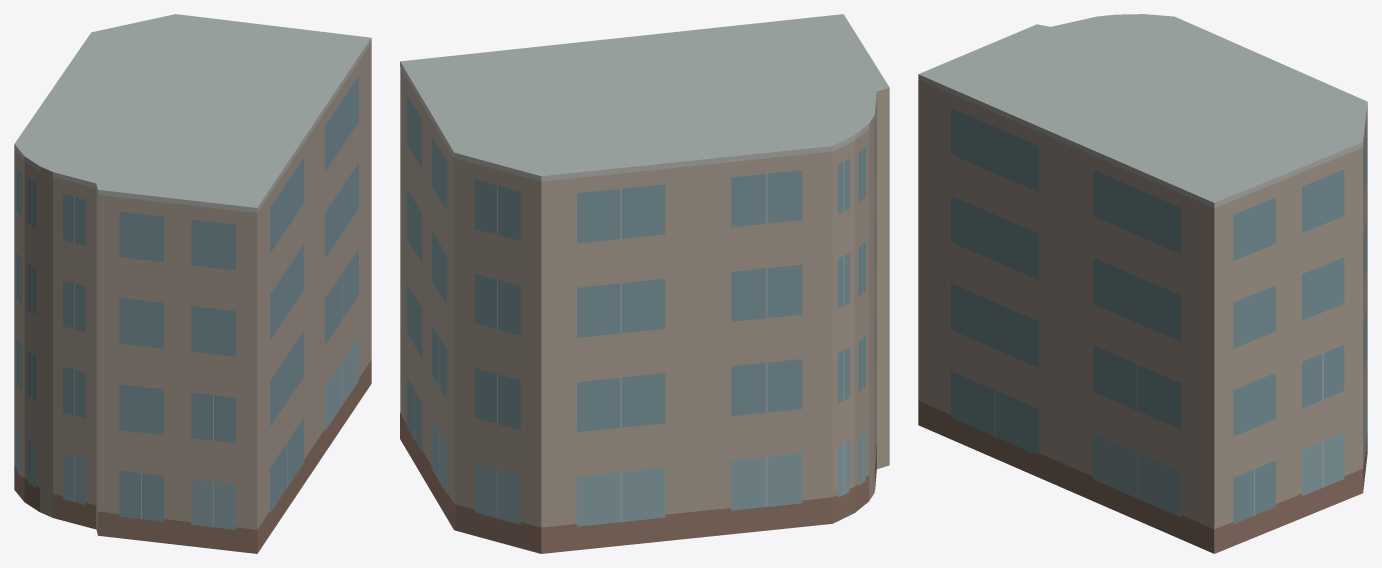
Rendered from survey-upis-32834749.glb.
3 views of the same model, side by side, from view 1: azimuth 30°, elevation 25°; view 2: azimuth 150°, elevation 25°; view 3: azimuth 270°, elevation 25° (orthographic). The views are drawn at different scales.
Visible parts, largest first — view 1: survey-upis-32834749.tmp; view 2: survey-upis-32834749.tmp; view 3: survey-upis-32834749.tmp.
Part boxes in pixels (left/top/right/bottom): survey-upis-32834749.tmp: left=14, top=14, right=371, bottom=553; survey-upis-32834749.tmp: left=400, top=14, right=889, bottom=553; survey-upis-32834749.tmp: left=918, top=14, right=1367, bottom=553.
Bounding box in the file's own units: 19.3 × 16.7 × 19.39.
